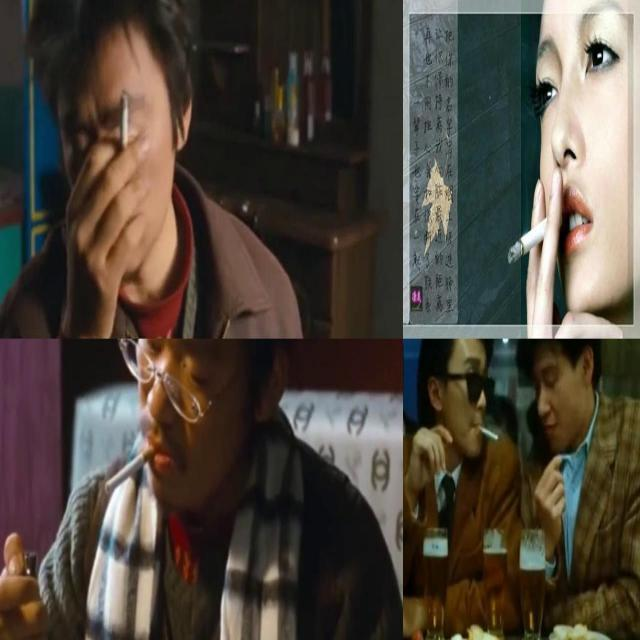rokok: (506, 208, 568, 268), (103, 445, 157, 495), (119, 88, 131, 152), (476, 424, 499, 442)
